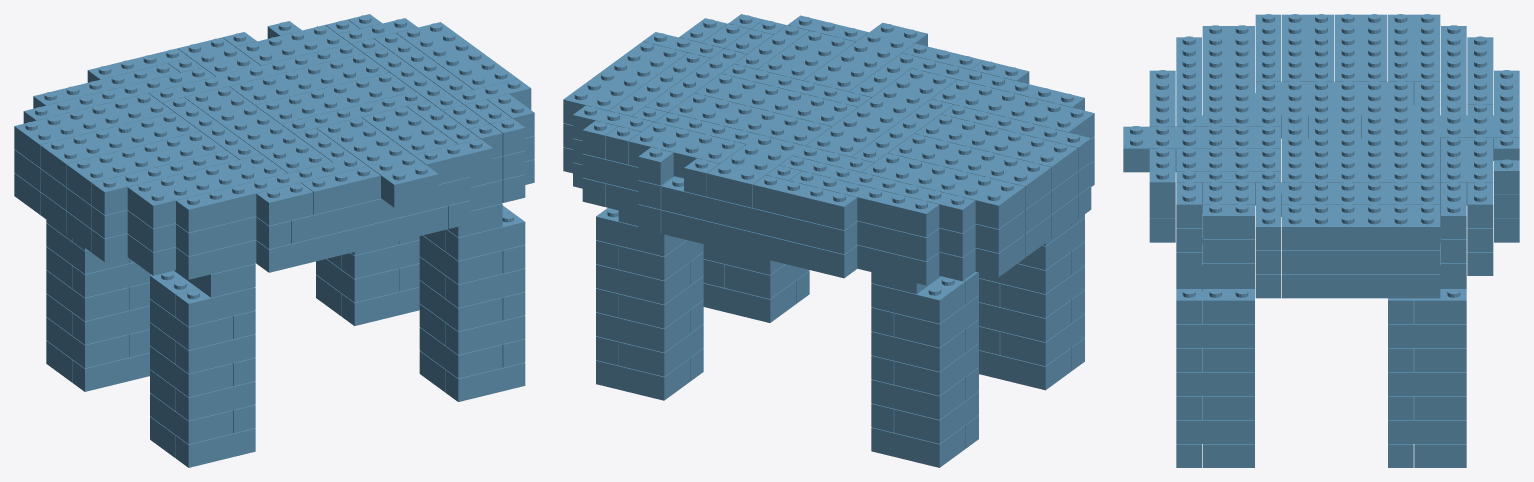
The model's file is 043_bench_L3.glb.
3 views of the same model, side by side, from view 1: azimuth 30°, elevation 25°; view 2: azimuth 150°, elevation 25°; view 3: azimuth 270°, elevation 25° (orthographic). The views are drawn at different scales.
Bounding box in the file's own units: 18.98 × 11.13 × 14.98.
